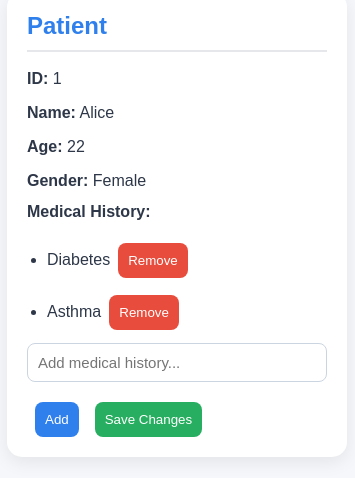
it: PatientCard › removes medical history item
This screenshot has width=355, height=478.
Click the button "Remove" next to "Diabetes". click: coordinates (153, 260)
box: [118,243,188,278]
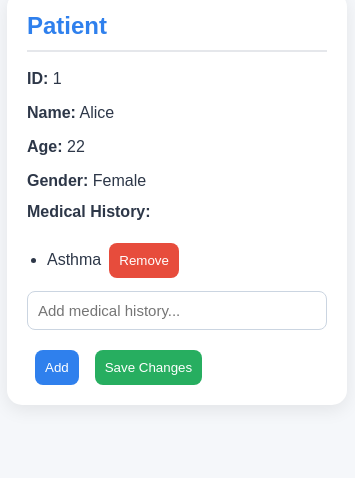
Expected: the list item "Diabetes" is gone
